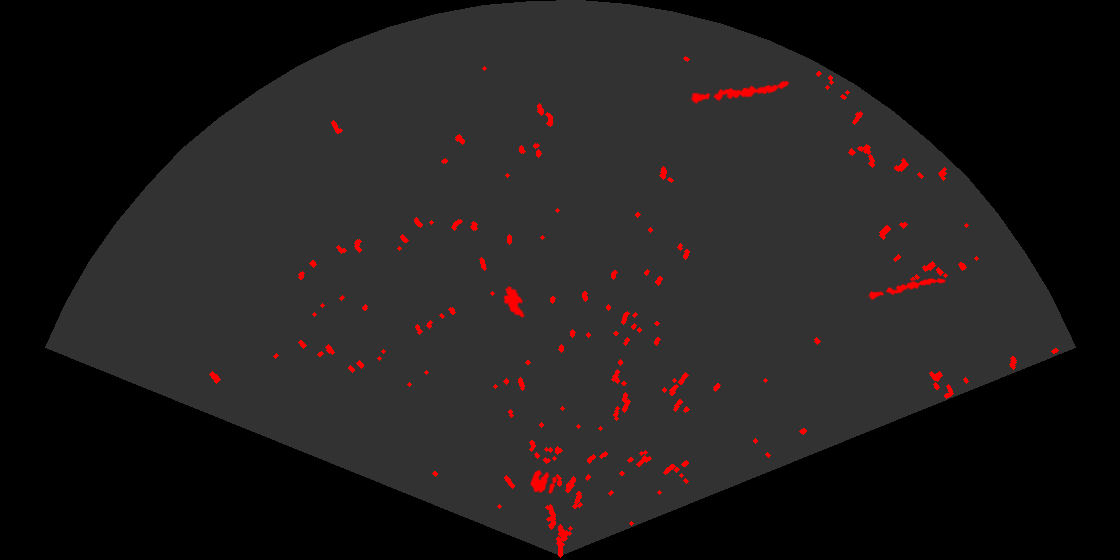AUV: (502, 284, 526, 319)
ball: (529, 468, 559, 496)
chain: (688, 79, 792, 106), (864, 277, 948, 301)
